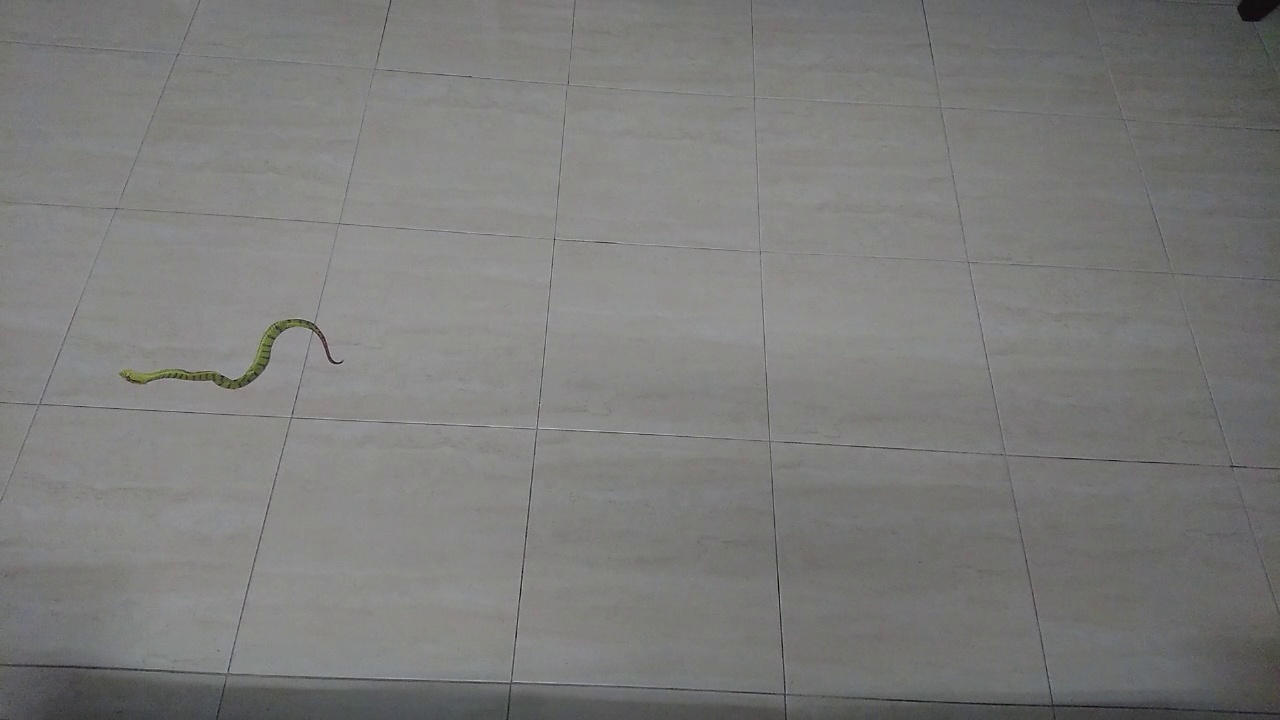snake: (107, 297, 361, 411)
